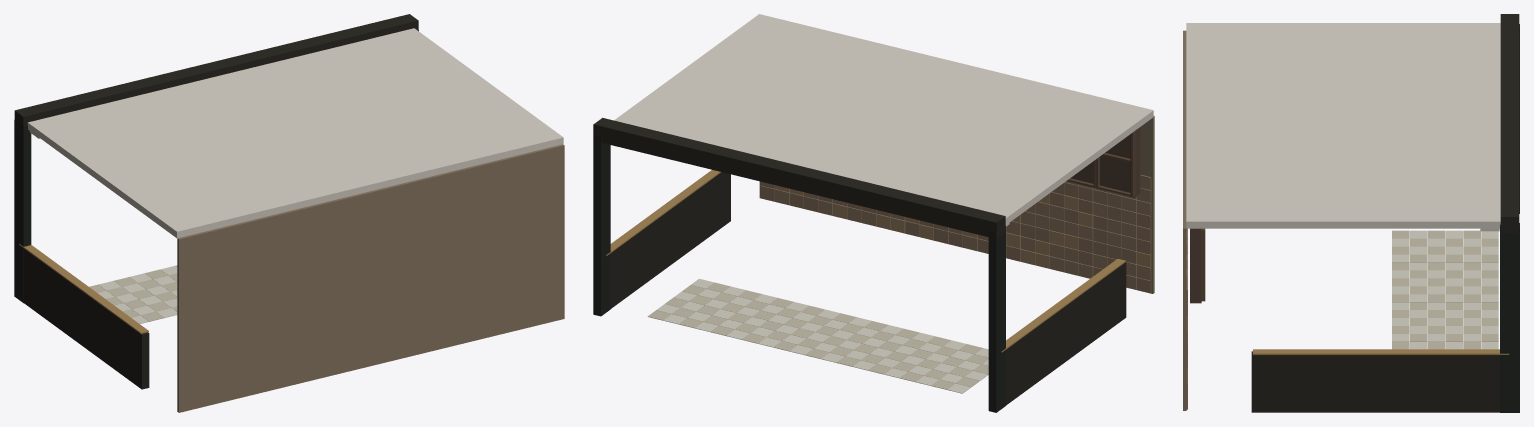
Rendered from shell.glb.
3 renders of one model, left to right at view 1: azimuth 30°, elevation 25°; view 2: azimuth 150°, elevation 25°; view 3: azimuth 270°, elevation 25°, orthographic. The views are drawn at different scales.
Parts seen in each view (by area): view 1: Gelati_shell; view 2: Gelati_shell; view 3: Gelati_shell.
Boxes of the visible parts, left/top/right/bottom form: Gelati_shell: left=14, top=14, right=564, bottom=412; Gelati_shell: left=593, top=14, right=1154, bottom=412; Gelati_shell: left=1183, top=14, right=1519, bottom=412.
Bounding box in the file's own units: 7.43 × 3.35 × 5.2.
